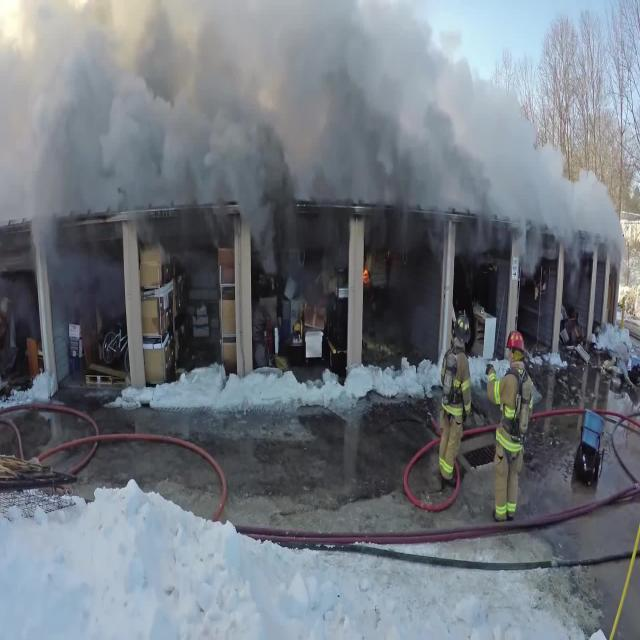Smoke: (4, 1, 632, 330)
